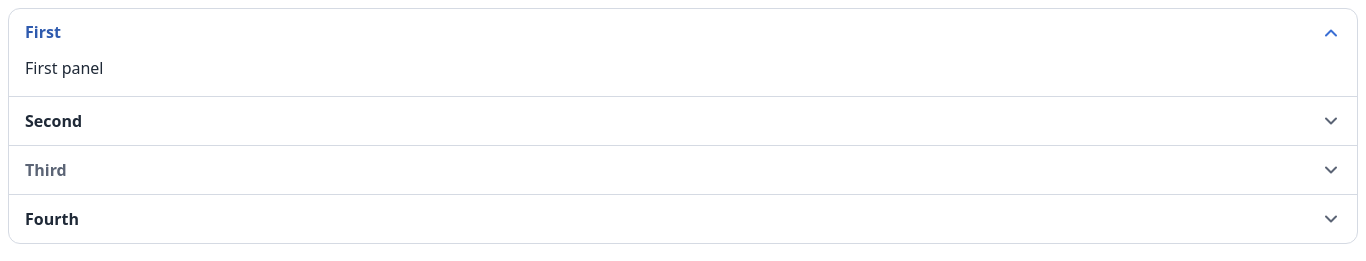
Test: Accordion behaviour › single mode can close the open item when collapsible
The image size is (1366, 261).
Click the button "First" at (43, 32), box [9,9,1357,57]
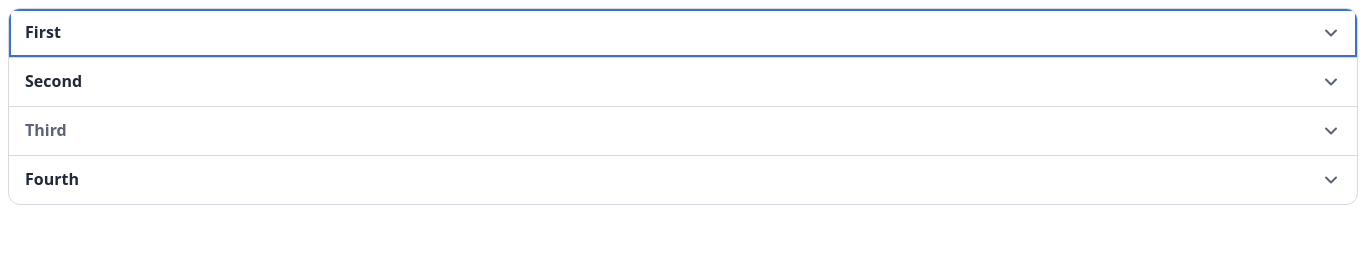
Now the button "First" is collapsed, box [9,9,1357,57]
